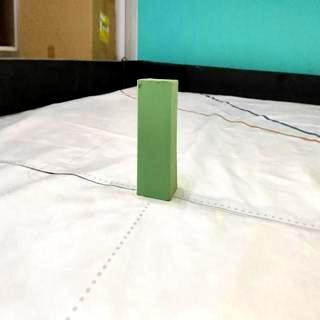greenbox: (136, 79, 178, 201)
